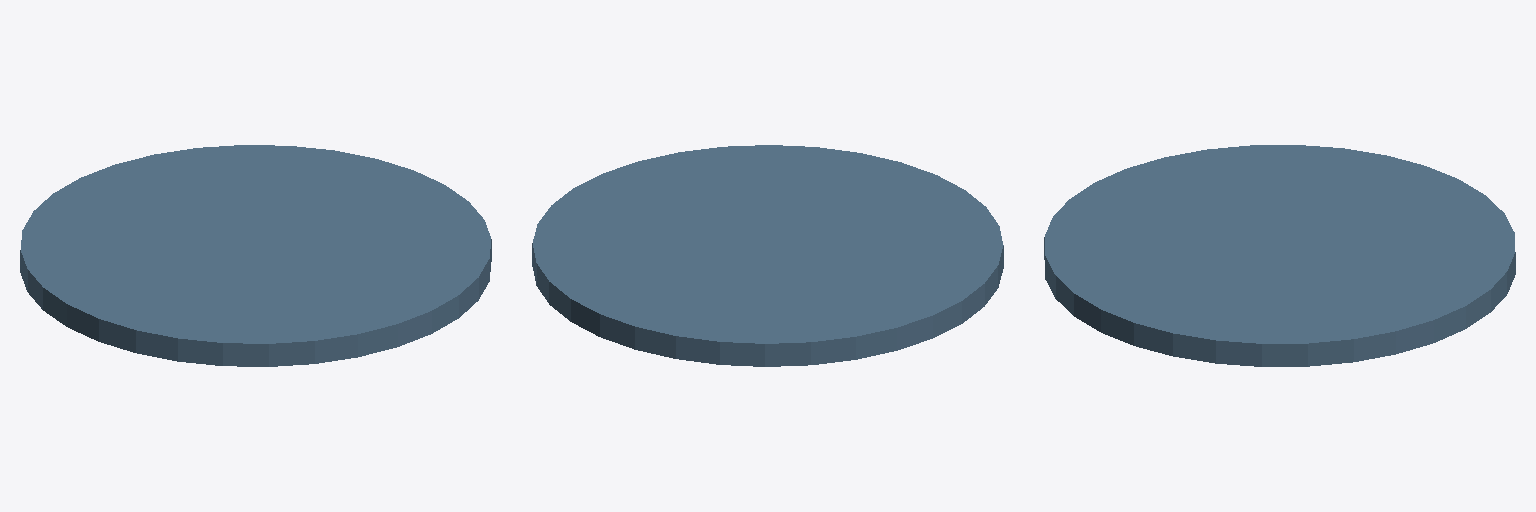
robot.urdf — Interference:
<?xml version="1.0"?>
<robot name="Interference">
  <link name="baseLink">
    <inertial>
      <origin xyz="0.0 0.0 0.0" rpy="0.0 0.0 0.0"/>
      <inertia ixx="0.0" ixy="0.0" ixz="0.0" iyy="0.0" iyz="0.0" izz="0.0"/>
      <mass value="0"/>
    </inertial>
    <visual>
      <origin xyz="0.0 0.0 0.0" rpy="0.0 0.0 0.9055141967936073"/>
      <geometry>
        <cylinder radius="0.09245804250452043" length="0.01"/>
      </geometry>
      <material name="color">
        <color rgba="0.40073825687806996 0.513242378266914 0.6018148454824214 1.0"/>
      </material>
    </visual>
  </link>
</robot>

--- Facts derived from the render (not from the file) ---
3 views of the same robot in one strip: view 1: azimuth 30°, elevation 25°; view 2: azimuth 150°, elevation 25°; view 3: azimuth 270°, elevation 25° (orthographic).
Robot: Interference — 1 links, 0 joints (none); root link baseLink; default pose: every joint at zero.
Links seen in each view (by area): view 1: baseLink; view 2: baseLink; view 3: baseLink.
Boxes of the visible links, <box> form: baseLink: <box>20,145,491,366</box>; baseLink: <box>532,145,1003,366</box>; baseLink: <box>1044,145,1515,366</box>.
Bounding box of the posed robot: 0.1844 × 0.1844 × 0.01 m (x, y, z).
Geometry: primitives only (box / cylinder / sphere), no mesh files.